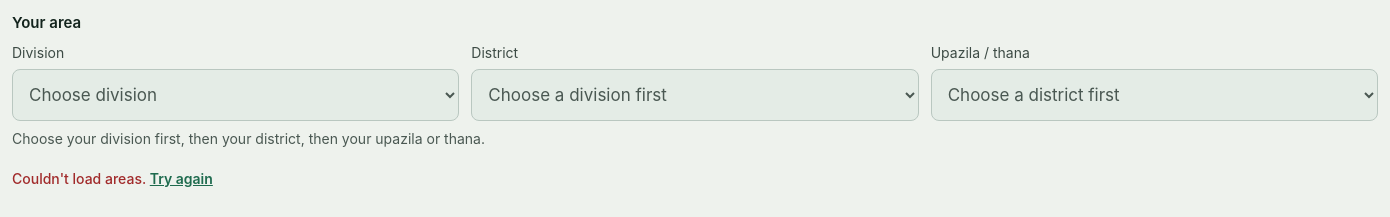
it: LocationPicker › says when the areas could not be loaded and tries again
Expected: the message shows "Couldn't load areas.", [12, 170, 146, 186]
Click the button "Try again": [181, 178] box [150, 156, 213, 200]
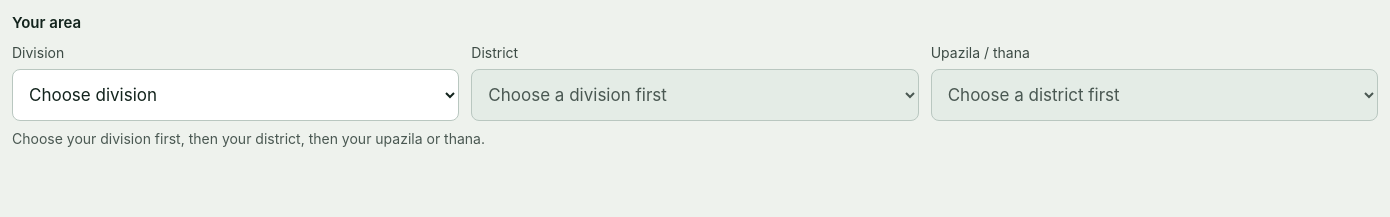
Expected: the dropdown labelled "Division" is enabled, [12, 68, 459, 120]
Expected: the message "Couldn't load areas. Try again" is gone
